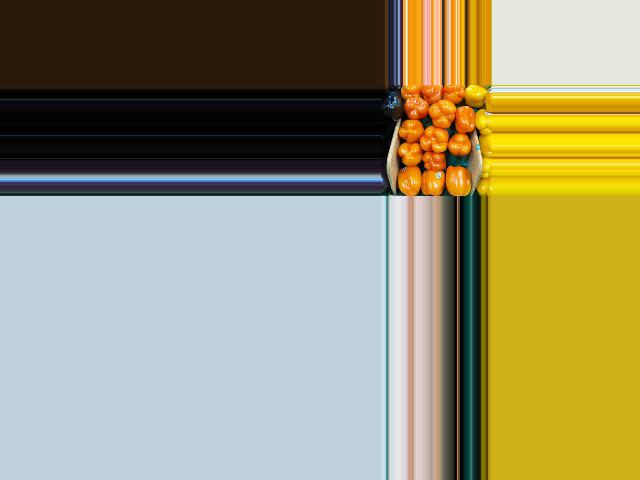bell_pepper: (475, 107, 489, 138)
